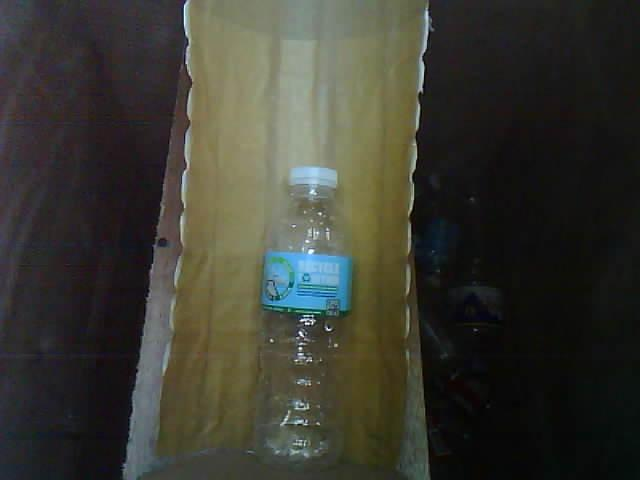small_bottle: (240, 152, 372, 480)
